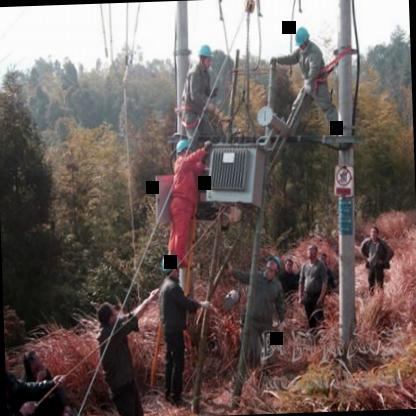head: (93, 297, 123, 327), (18, 346, 48, 376), (302, 236, 322, 261), (5, 340, 12, 383), (282, 256, 298, 274), (365, 224, 380, 242)
helmet: (158, 254, 182, 282), (195, 41, 215, 74), (260, 253, 284, 278), (172, 136, 194, 160), (290, 25, 310, 51)
